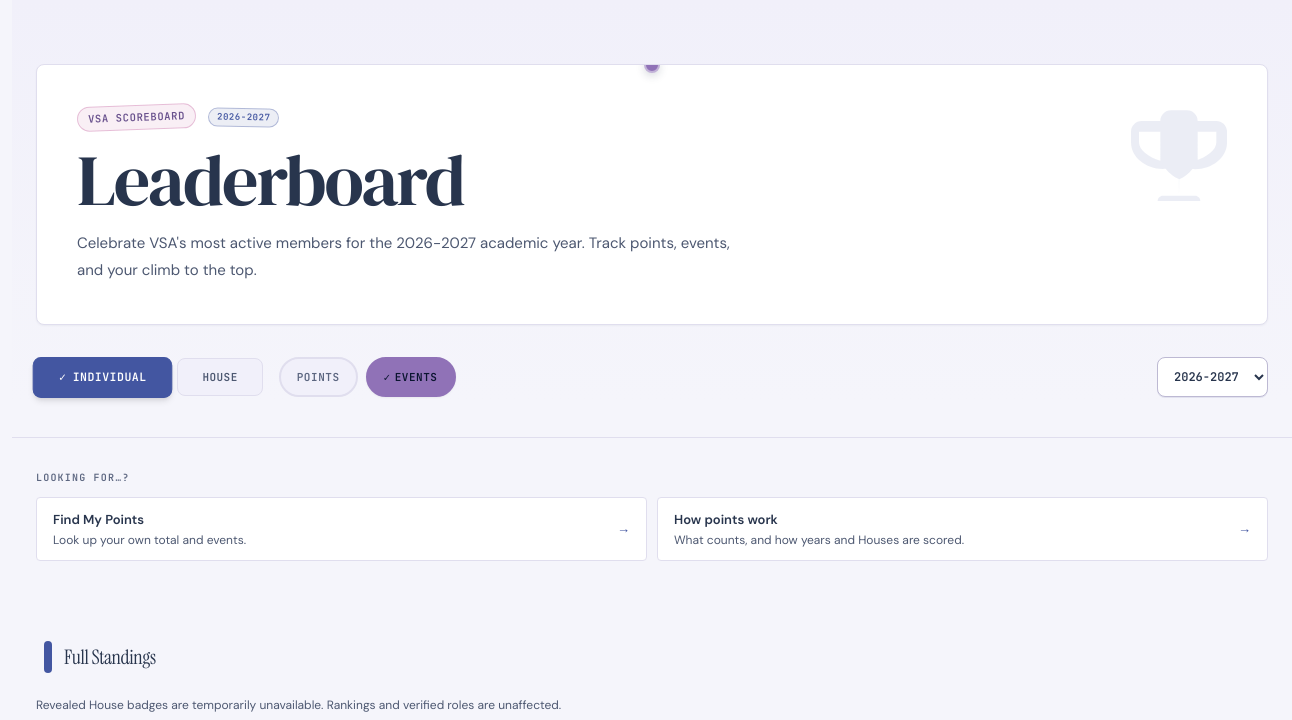
Members-only leaderboard (#628) › ignores a stale cohort=board link and keeps year/metric deep links
Expected: the text "Ada One" is not shown
Select "ALL-TIME" in the dropdown named "Select academic year" at x=1212, y=377, box [1157,357,1268,397]
(page scrolled)
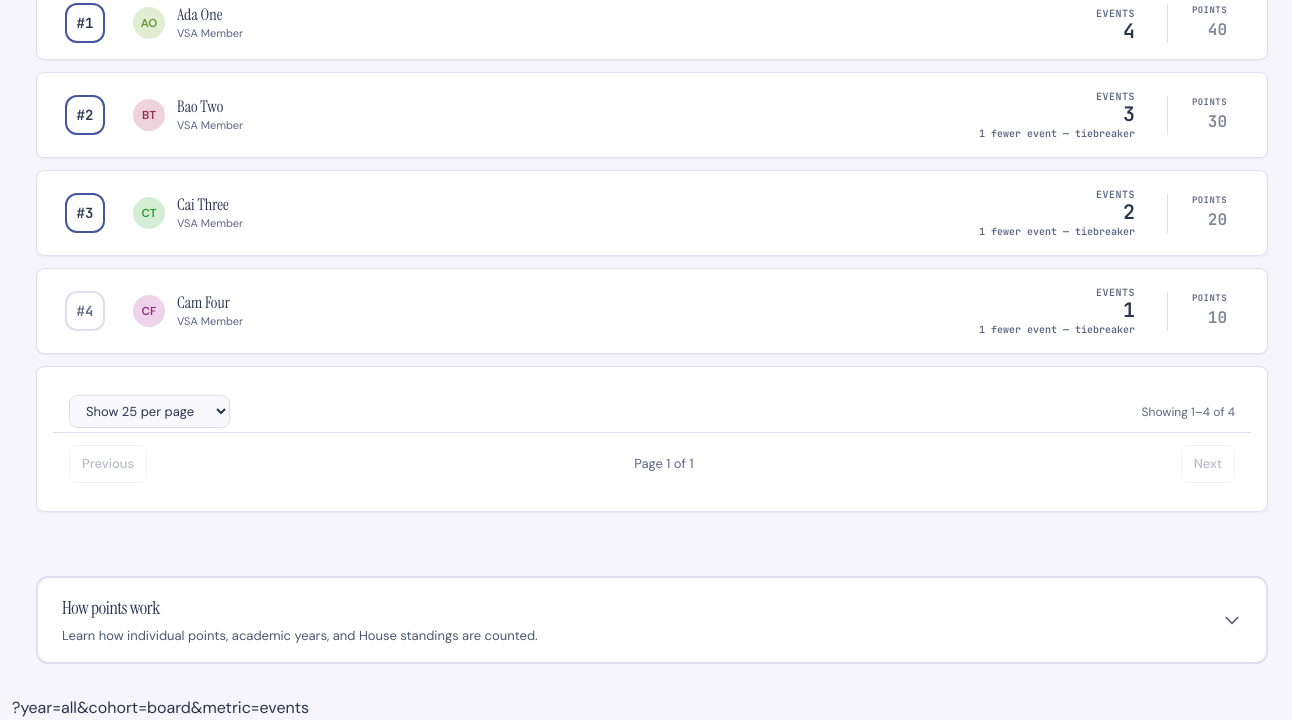
Result: the text with test id "url" shows "year=all" at [12,697,309,718]
